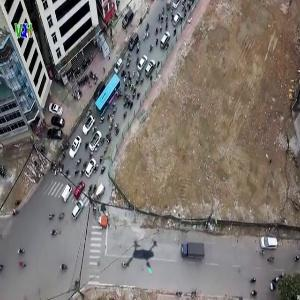drone: (115, 233, 177, 295)
